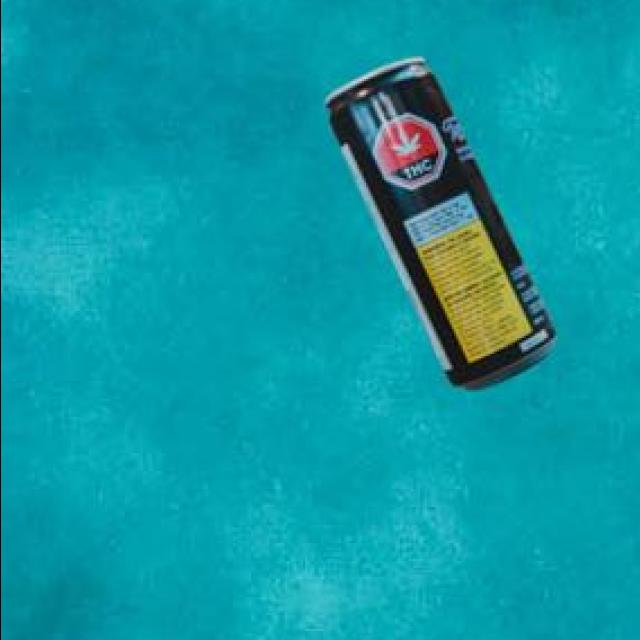logam: (321, 62, 551, 393)
